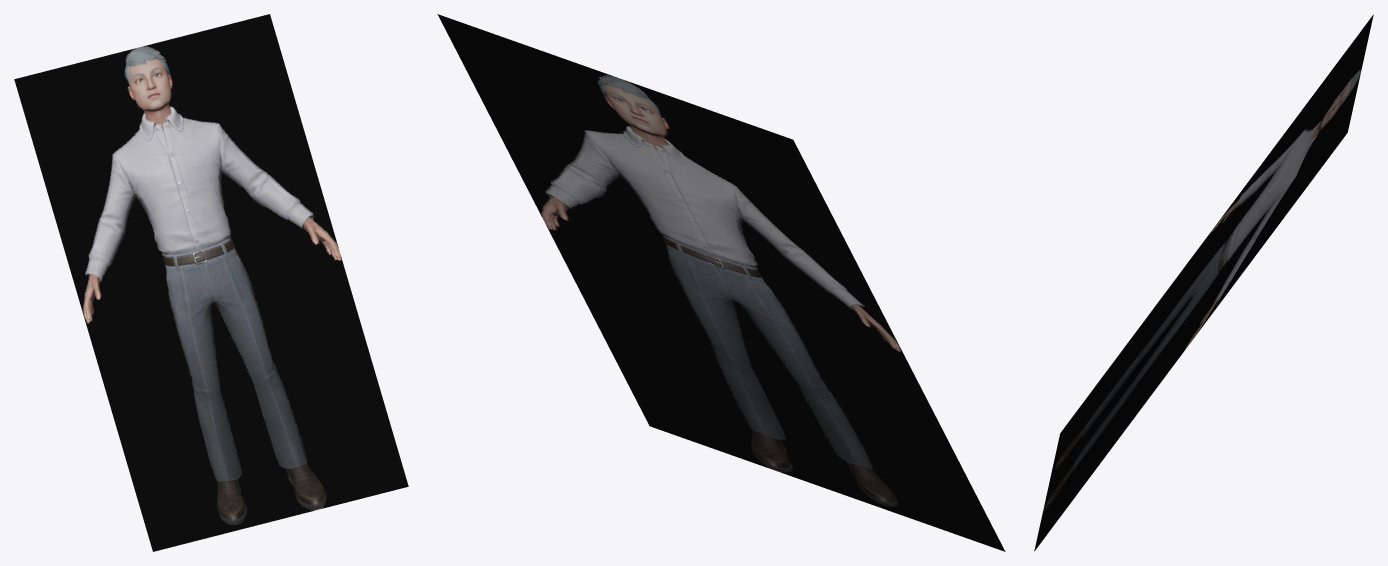
The model's file is amlo2d.glb.
3 views of the same model, side by side, from view 1: azimuth 30°, elevation 25°; view 2: azimuth 150°, elevation 25°; view 3: azimuth 270°, elevation 25° (orthographic). The views are drawn at different scales.
Parts seen in each view (by area): view 1: IMG_1862; view 2: IMG_1862; view 3: IMG_1862.
Part boxes in pixels (x1,y1,x2,y2): IMG_1862: [14, 14, 408, 551]; IMG_1862: [437, 14, 1005, 551]; IMG_1862: [1034, 14, 1373, 551].
Bounding box in the file's own units: 1.11 × 1.67 × 1.18.
Materials: 1 (1 with a texture image).
